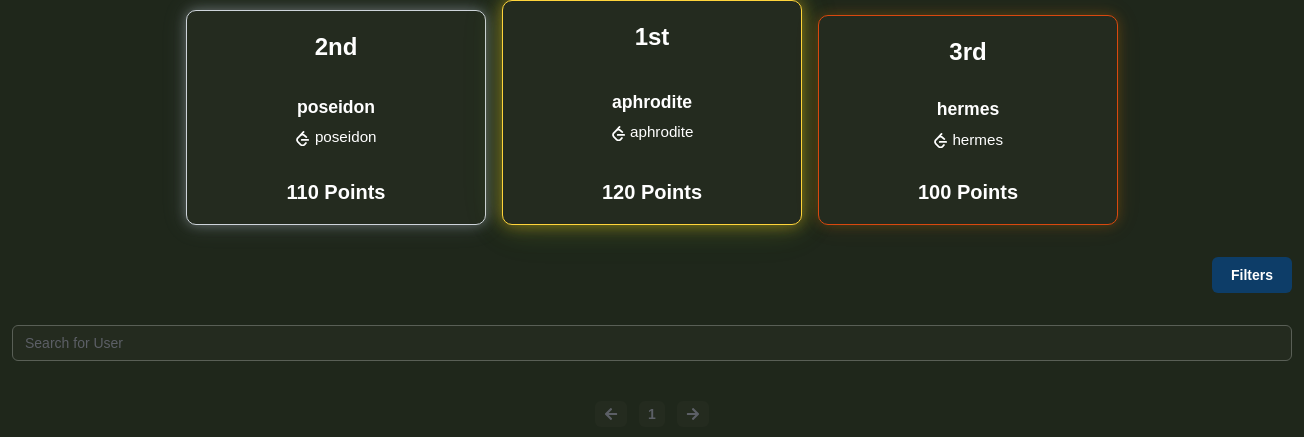
Test: Leaderboard API Succeeded › should show all users again after clearing search
The width and height of the screenshot is (1304, 437).
In the field with placeholder "Search for User": (652, 343) [12,325,1292,361], type "aphrodite"
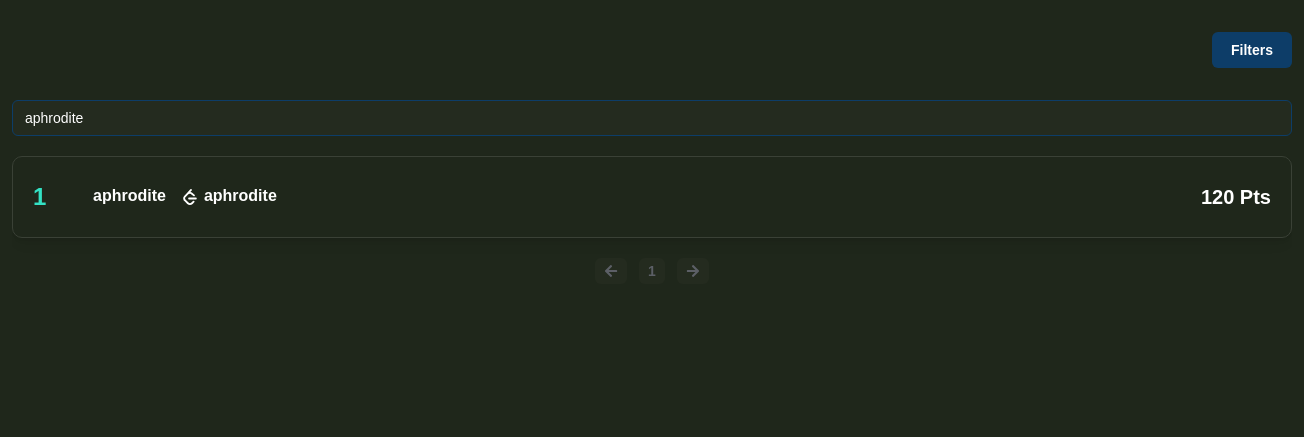
Expected: no links "poseidon" are shown
Clear the field with placeholder "Search for User": (652, 118) [12,100,1292,136]
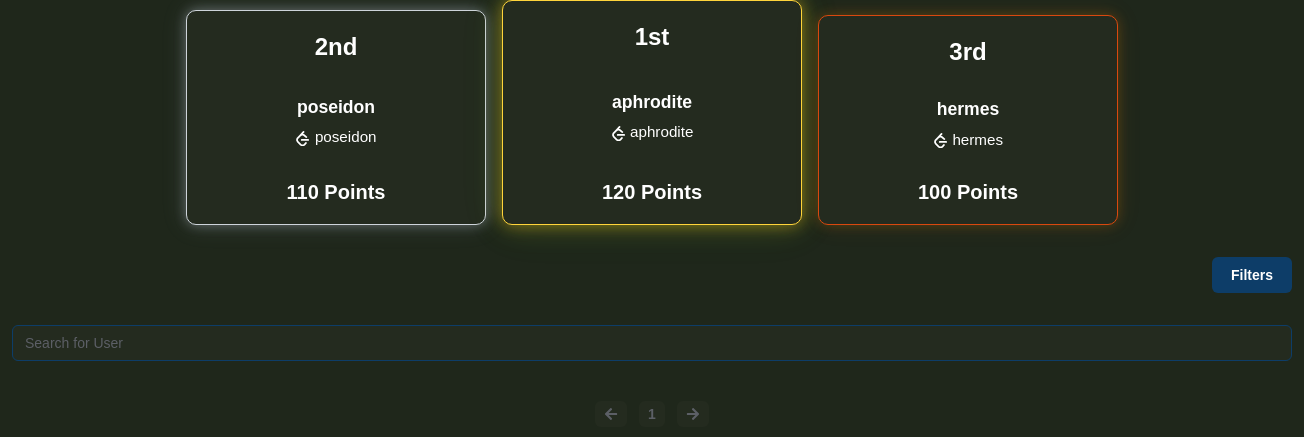
Expected: the text "aphrodite" is shown, [612,89,692,116]
Expected: the text "poseidon" is shown, [297,94,375,121]
Expected: the text "hermes" is shown, [937,96,999,124]
